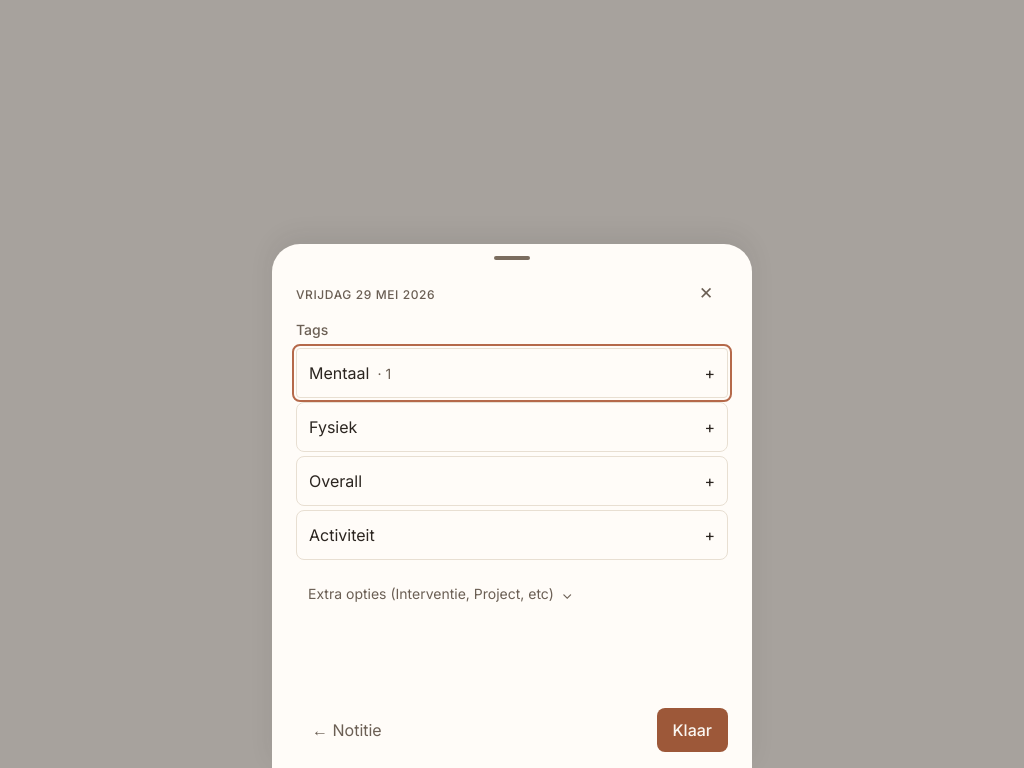
Test: <QuickEntryFlow /> › given the tags step + Back, when pressed, then the flow returns to the note step
Click the button "← Notitie": (347, 730) [296,708,398,752]
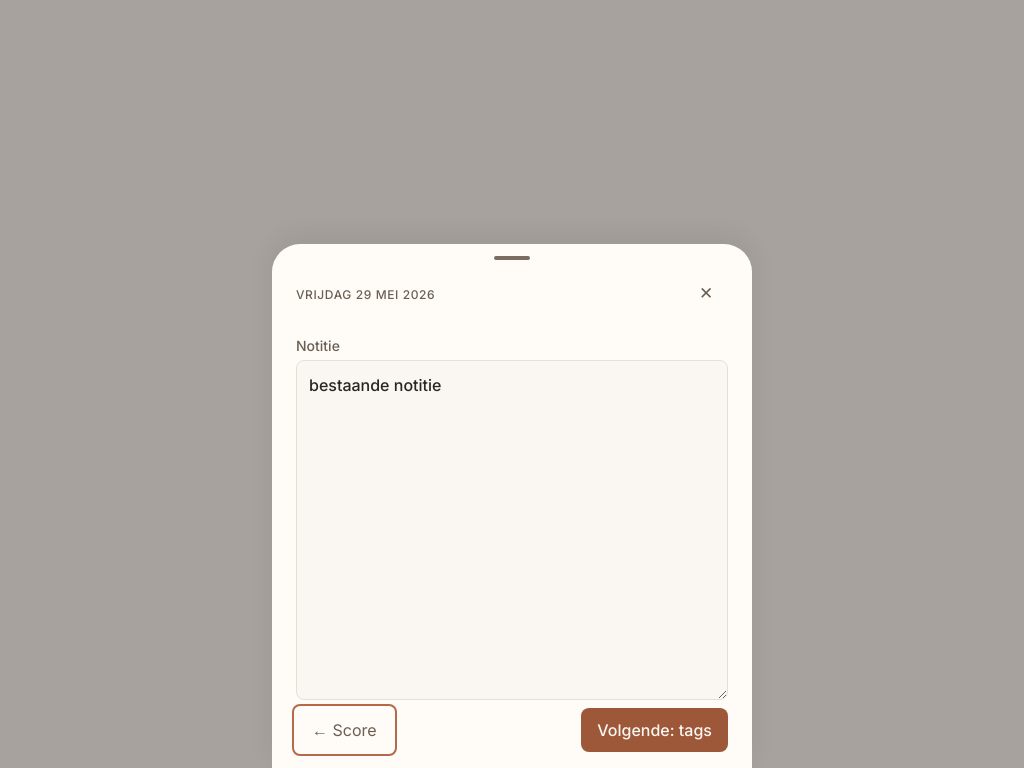
Check: the button "Volgende: tags" is shown, box [581,708,728,752]
